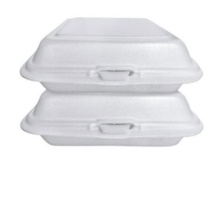foam_box: (17, 10, 206, 96), (18, 87, 207, 149)
